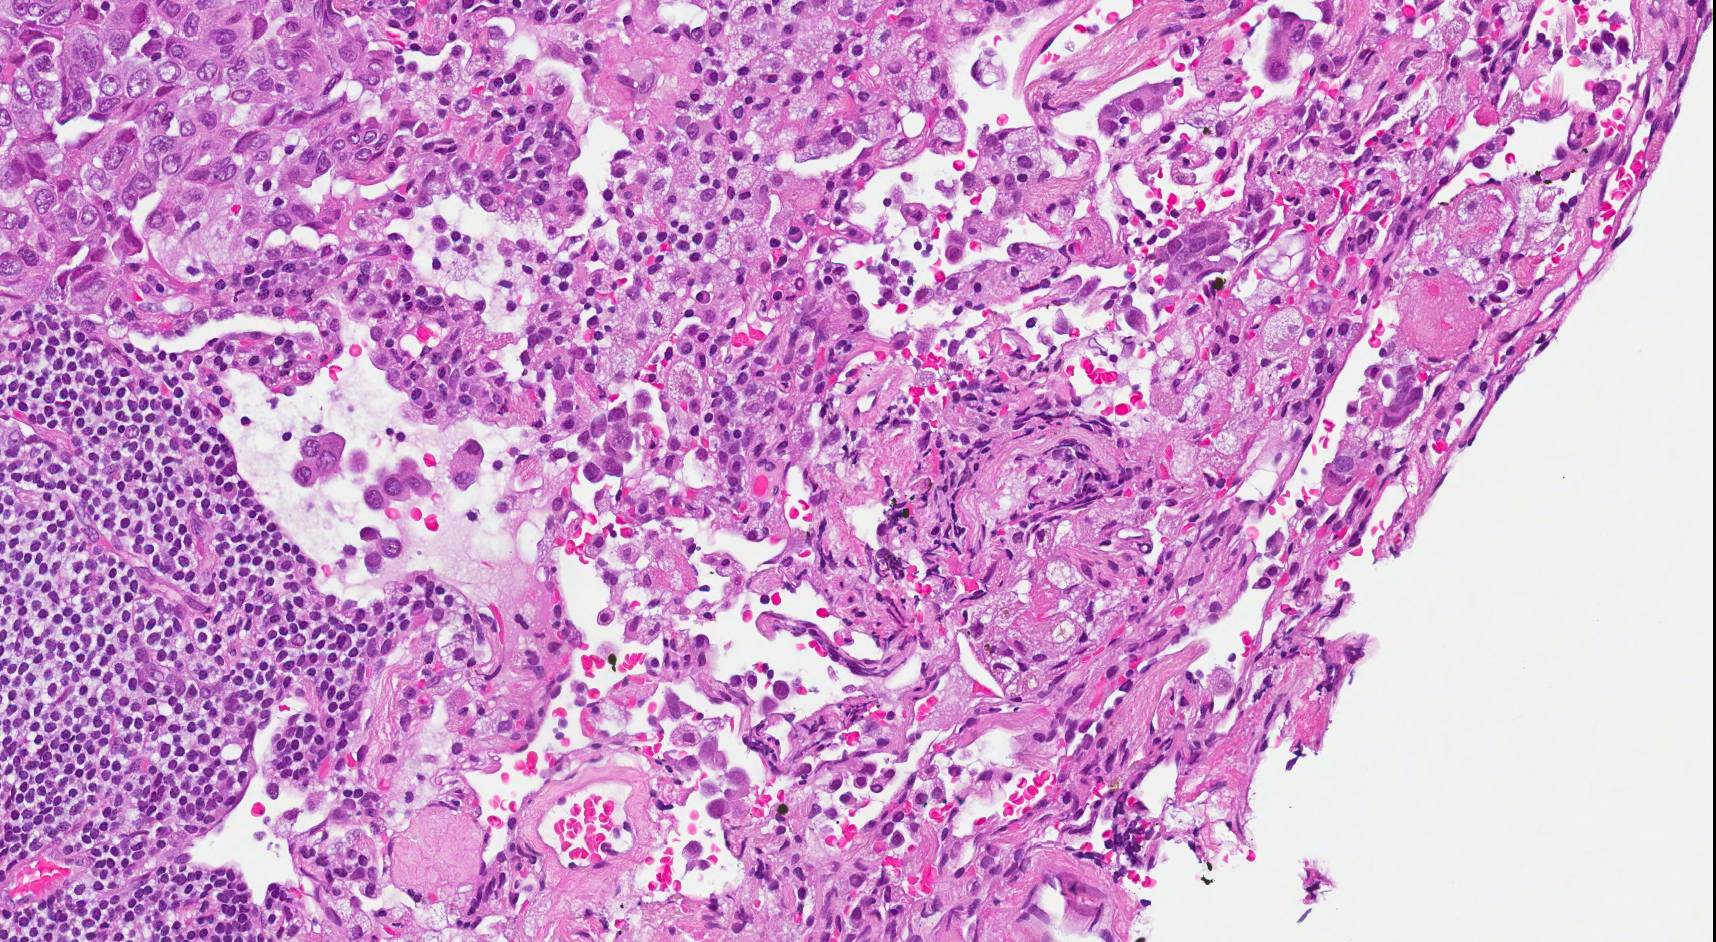stas: (1154, 207, 1239, 293), (578, 409, 642, 487), (360, 451, 432, 518), (289, 427, 350, 490), (347, 521, 408, 574), (447, 436, 495, 496)
